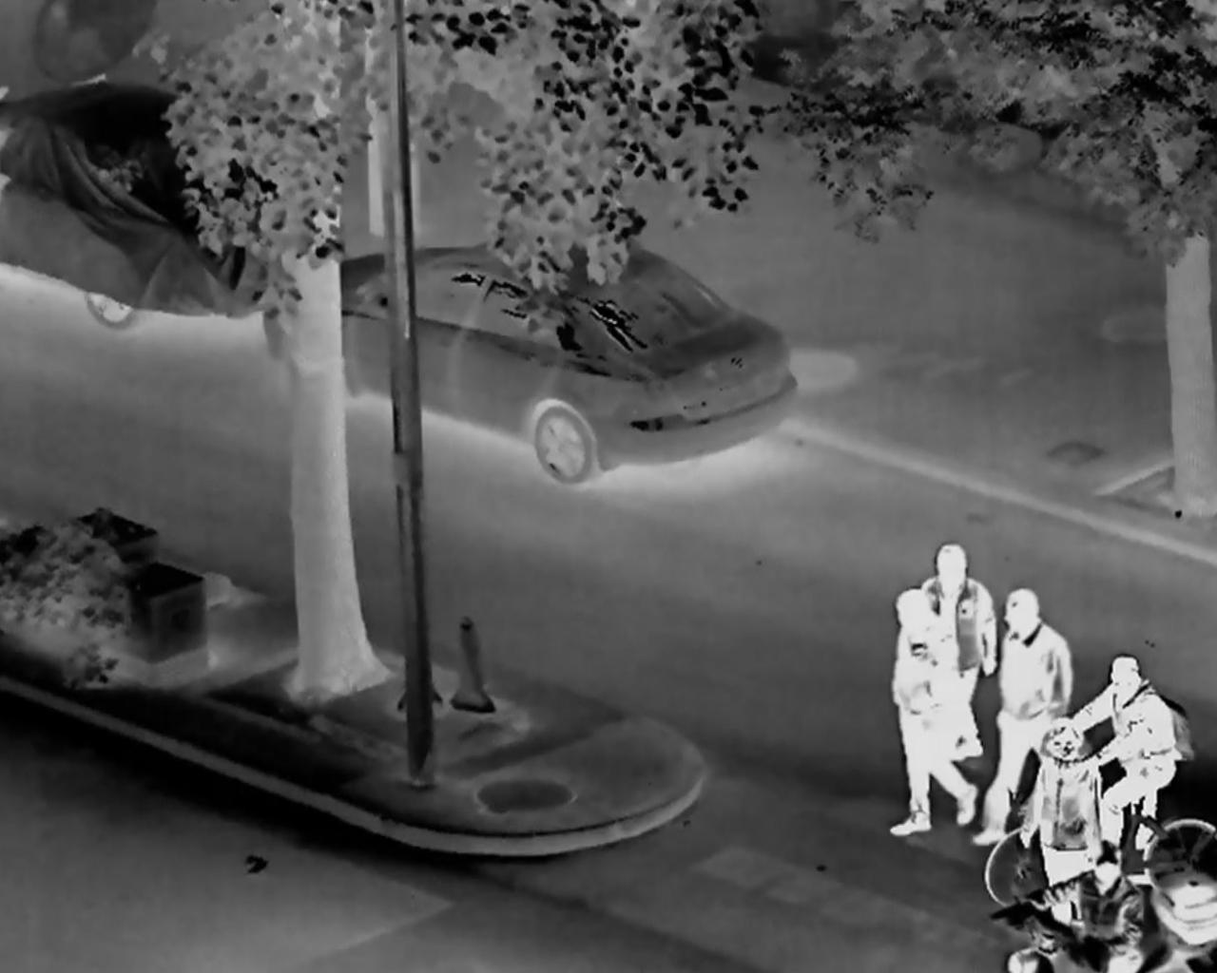person: (1056, 655, 1176, 877), (976, 589, 1074, 847), (890, 590, 978, 832), (1021, 718, 1106, 946), (918, 544, 995, 761), (1059, 840, 1139, 973)
